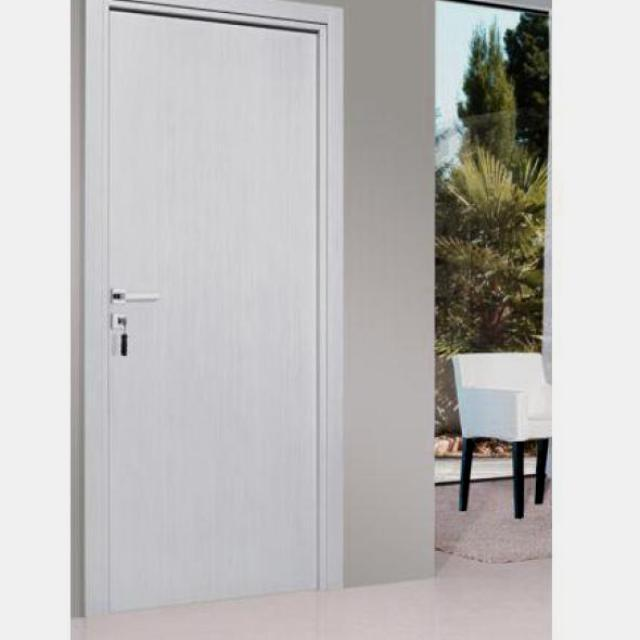door: (81, 0, 338, 615)
